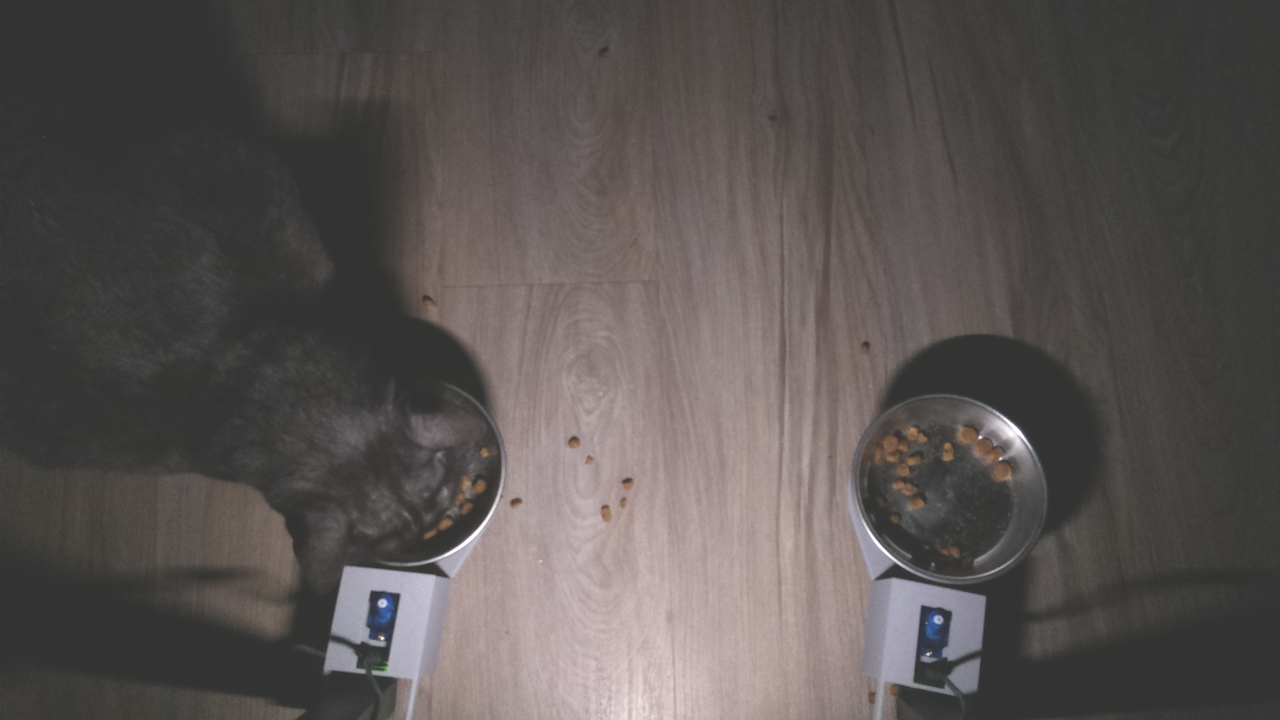open_bowl: (845, 386, 1055, 590)
saki_eating: (255, 299, 508, 600)
